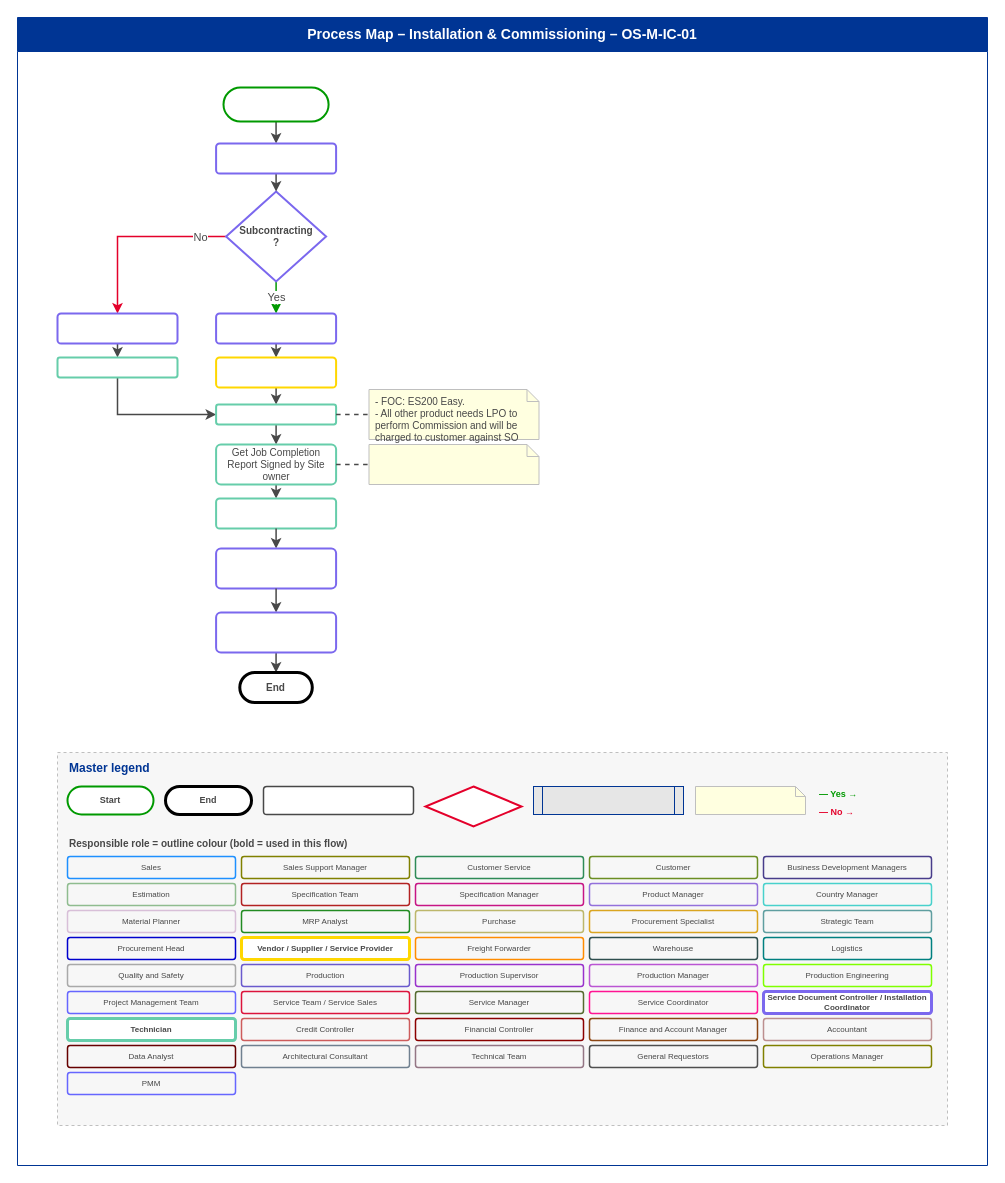
Some shapes in this 1005 by 1183 pixel diagram are drawn without their labels. The shapes that lost their labels are listed below. From the top down, each one's box as (x1, y1, x2, y2) in pixels, then its label:
(222, 86, 329, 122): Installation & Commissioning
(215, 142, 337, 174): Review Subcontracting Decision
(56, 312, 178, 344): Schedule Installation Team
(215, 312, 337, 344): Schedule 3rd party Installation
(56, 356, 178, 378): Installation
(215, 356, 337, 388): Installation & Share SRR
(215, 403, 337, 425): Commissioning
(368, 444, 539, 484): KSA: Job Completeion report is reviewed and Signed by Service Sales team.
(215, 497, 337, 529): Share JCR with Coordinator
(215, 547, 337, 589): Share JCR & Signed WC copy with Customer & Document Controller
(215, 611, 337, 653): If LPO created for job, Inovice Customer and Collect Payment
(262, 785, 414, 815): Activity (outline = role)
(424, 785, 522, 827): Decision
(532, 786, 684, 814): Linked process (Ref ID)
(694, 786, 806, 814): Note / checklist
